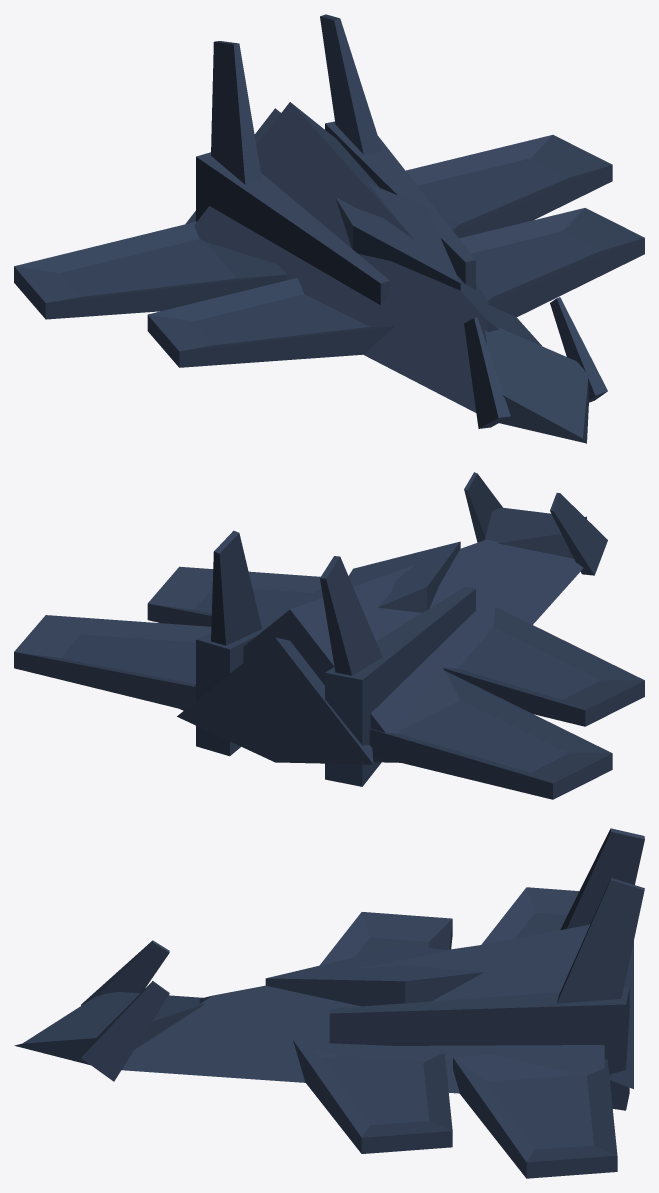
File: FighterJet.glb
3 views of the same model, one above another, from view 1: azimuth 30°, elevation 25°; view 2: azimuth 150°, elevation 25°; view 3: azimuth 270°, elevation 25° (orthographic).
Visible parts, largest first — view 1: caça; view 2: caça; view 3: caça.
Part boxes in pixels (x1,y1,x2,y2): caça: (14, 14, 644, 443); caça: (14, 472, 644, 799); caça: (14, 828, 644, 1178).
Bounding box in the file's own units: 6.74 × 2.49 × 6.53.
